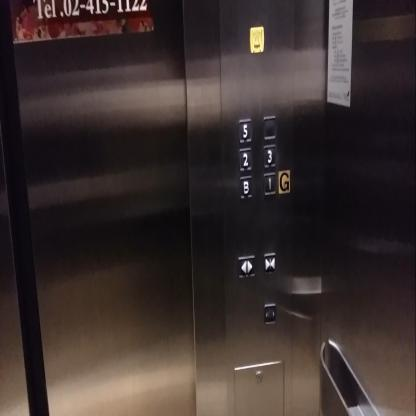1: (261, 170, 277, 198)
2: (237, 144, 253, 173)
3: (261, 141, 278, 169)
5: (236, 116, 253, 145)
B: (238, 173, 254, 201)
G: (277, 168, 291, 194)
alarm: (248, 25, 264, 54)
close: (262, 250, 278, 275)
empty: (261, 113, 277, 142)
open: (237, 252, 256, 280), (262, 301, 278, 326)
